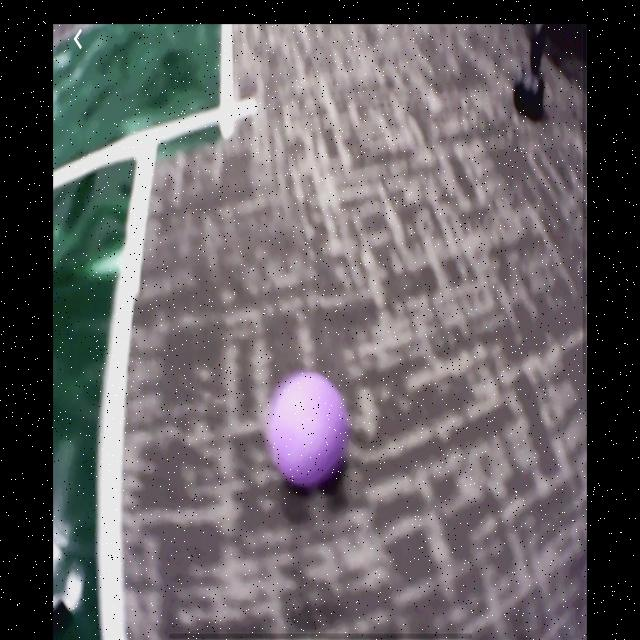ball: (271, 374, 346, 488)
